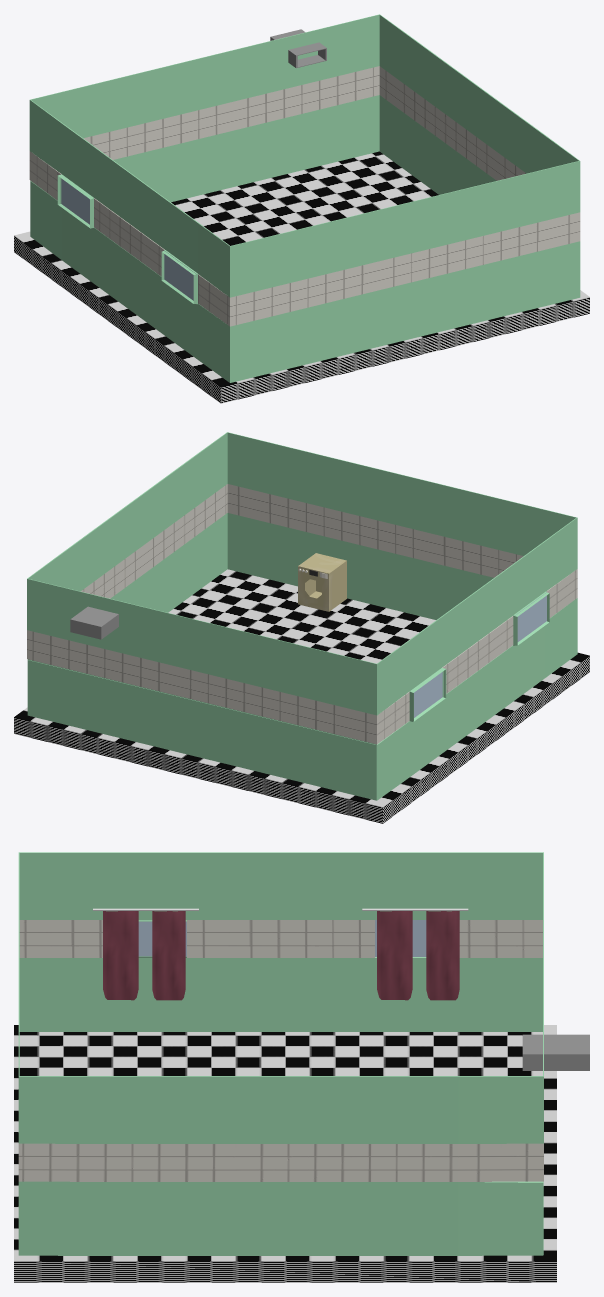
Rendered from ODADA.fbx.
3 renders of one model, top to bottom at view 1: azimuth 30°, elevation 25°; view 2: azimuth 150°, elevation 25°; view 3: azimuth 270°, elevation 25°, orthographic. The views are drawn at different scales.
Visible parts, largest first — view 1: duvar, Cube.005, Cube.001; view 2: duvar, Cube.005, Cube.007, Cube.001; view 3: duvar, Cube.005, PERDE4, PERDE, PERDE2, PERDE3, Cube.001.
Part boxes in pixels (left/top/right/bottom): duvar: left=29, top=14, right=580, bottom=382; Cube.005: left=14, top=151, right=589, bottom=403; Cube.001: left=270, top=29, right=326, bottom=68; duvar: left=27, top=432, right=577, bottom=800; Cube.005: left=14, top=569, right=589, bottom=823; Cube.007: left=298, top=553, right=346, bottom=611; Cube.001: left=70, top=606, right=118, bottom=639; duvar: left=18, top=852, right=543, bottom=1255; Cube.005: left=14, top=1025, right=556, bottom=1282; PERDE4: left=377, top=911, right=412, bottom=1000; PERDE: left=103, top=911, right=138, bottom=1000; PERDE2: left=152, top=911, right=185, bottom=1000; PERDE3: left=426, top=911, right=459, bottom=1000; Cube.001: left=522, top=1034, right=589, bottom=1070.
Bounding box in the file's own units: 1753 × 696 × 1808.
11 materials, 3 textured.
